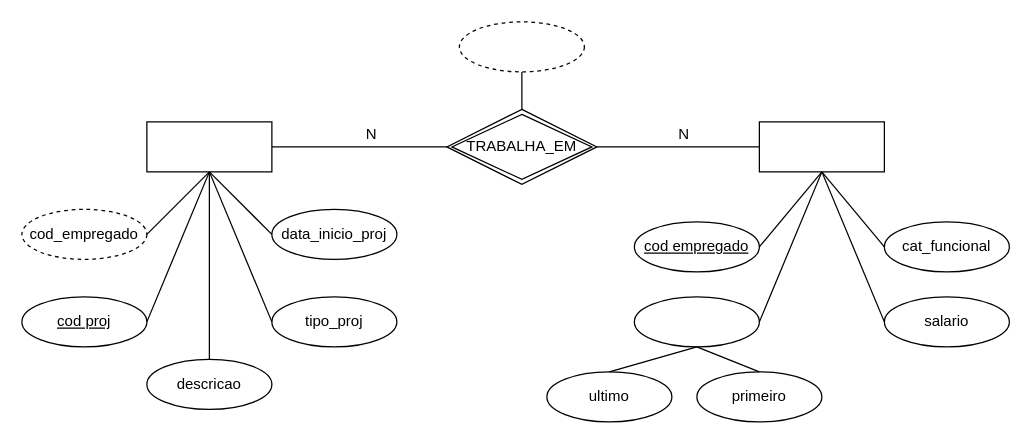
The diagram is 1031 pixels wide and 444 high, and some of its shapes have lost their labels. Each missing label, with the box of its shape:
EMPREGADO: (758, 121, 884, 172)
nome: (633, 296, 759, 347)
PROJETO: (146, 121, 272, 172)
temp_aloc_proj: (458, 21, 584, 72)
